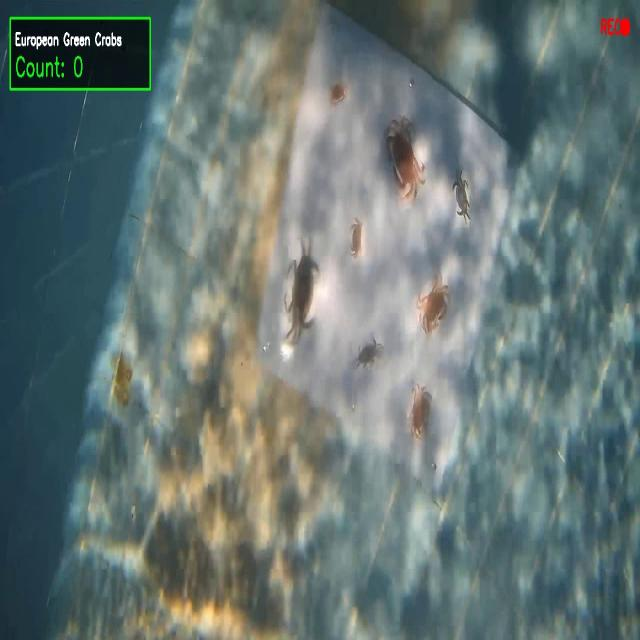European_Green_Crab: (280, 231, 323, 353), (447, 163, 477, 229), (352, 333, 387, 378)
